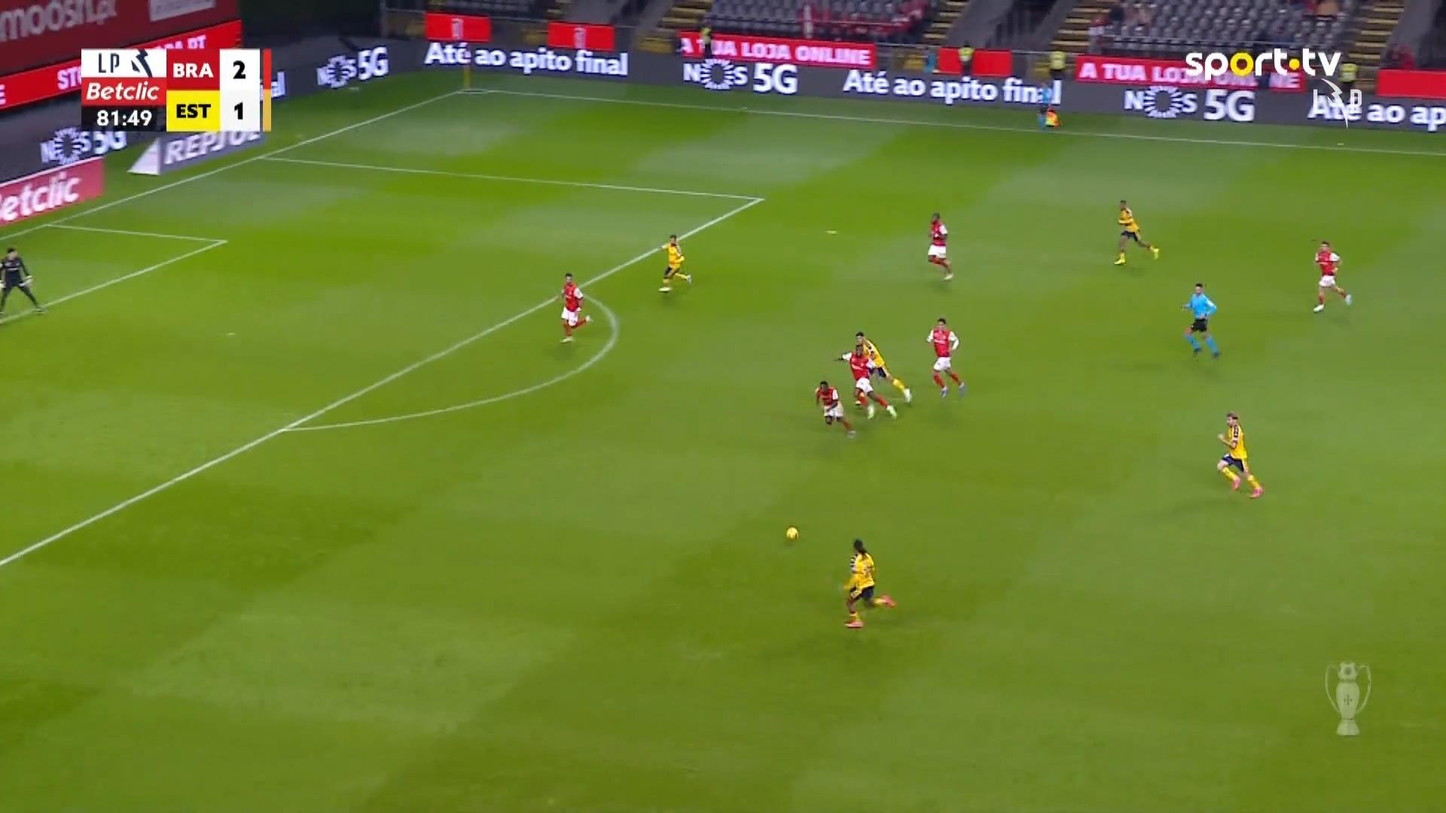ball: (785, 526, 798, 540), (1329, 253, 1339, 262)
goalkeeper: (0, 246, 45, 315)
player: (834, 338, 898, 420), (842, 537, 895, 628), (854, 330, 912, 403), (1216, 410, 1263, 498), (926, 317, 966, 397), (1112, 197, 1158, 265), (1311, 239, 1353, 312), (814, 379, 856, 436), (557, 272, 587, 342), (657, 233, 691, 292), (926, 212, 953, 280)
referee: (1182, 281, 1221, 358), (1036, 81, 1060, 133)
